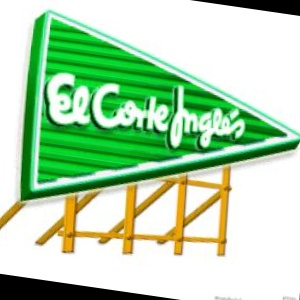corte_ingles: (218, 45, 288, 134)
